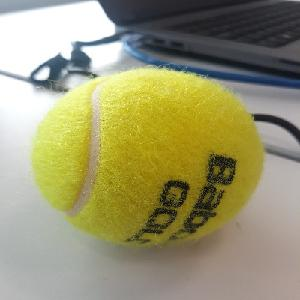Ball: (31, 65, 263, 248)
